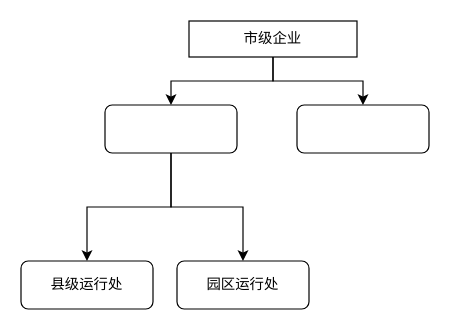
Image size: 450x330. Some labels were removed from this diagram. The shapes that lost their labels are listed below. From the top down, each one's centre as x and y in pixels, then its label:
At (170,128): "市级运行处".
At (362,128): "市级投资处".
